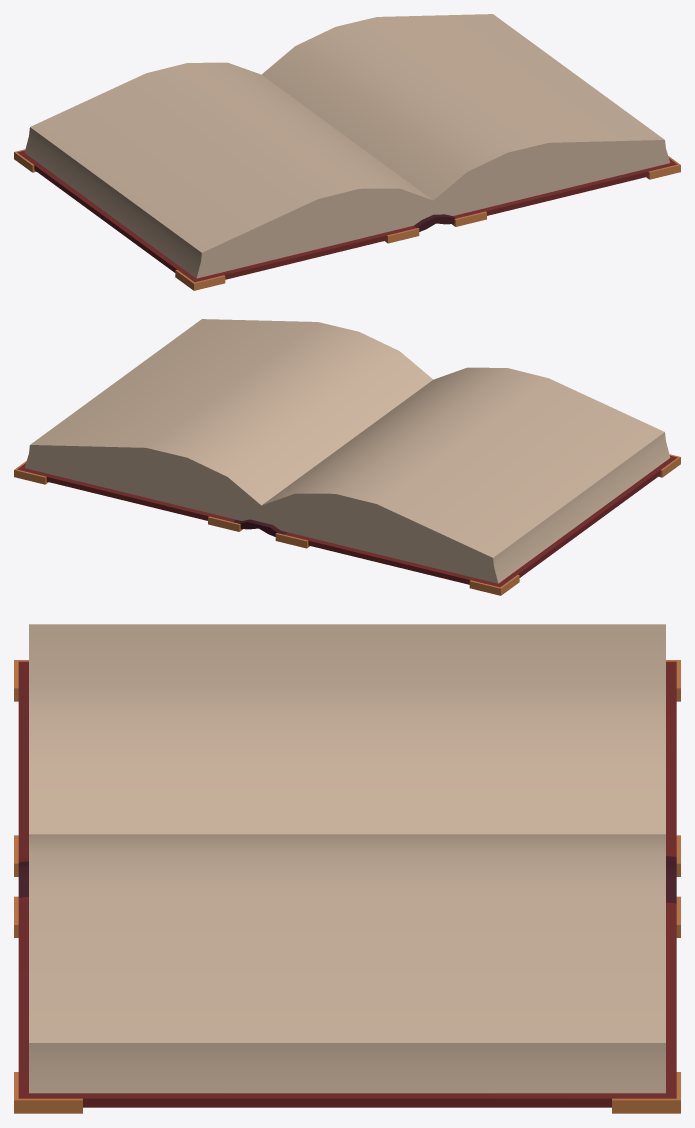
The model's file is Book_09_Open.fbx.
The picture shows the model from 3 angles, top to bottom: view 1: azimuth 30°, elevation 25°; view 2: azimuth 150°, elevation 25°; view 3: azimuth 270°, elevation 25°; orthographic projection. The views are drawn at different scales.
Visible parts, largest first — view 1: Book_09_Open; view 2: Book_09_Open; view 3: Book_09_Open.
Part boxes in pixels (<box>): Book_09_Open: <box>14,14,680,290</box>; Book_09_Open: <box>14,319,680,595</box>; Book_09_Open: <box>14,624,680,1113</box>.
Size of the model in its own units: 0.5108 by 0.0615 by 0.327.
